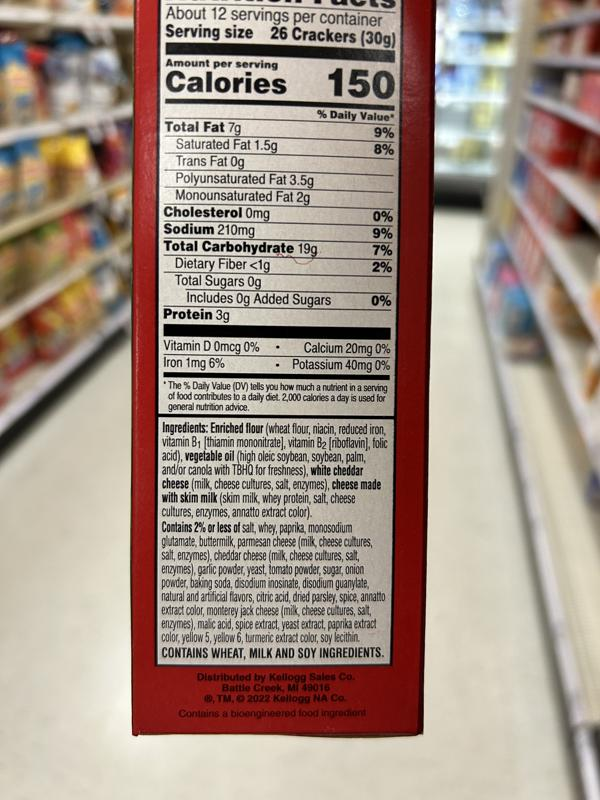ingredients: (160, 420, 391, 520)
